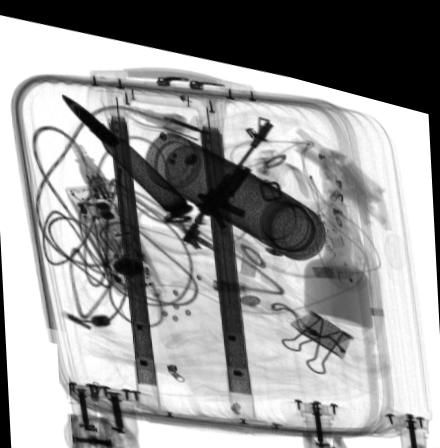Bullet: (61, 91, 194, 208)
Gun: (181, 106, 273, 240)
